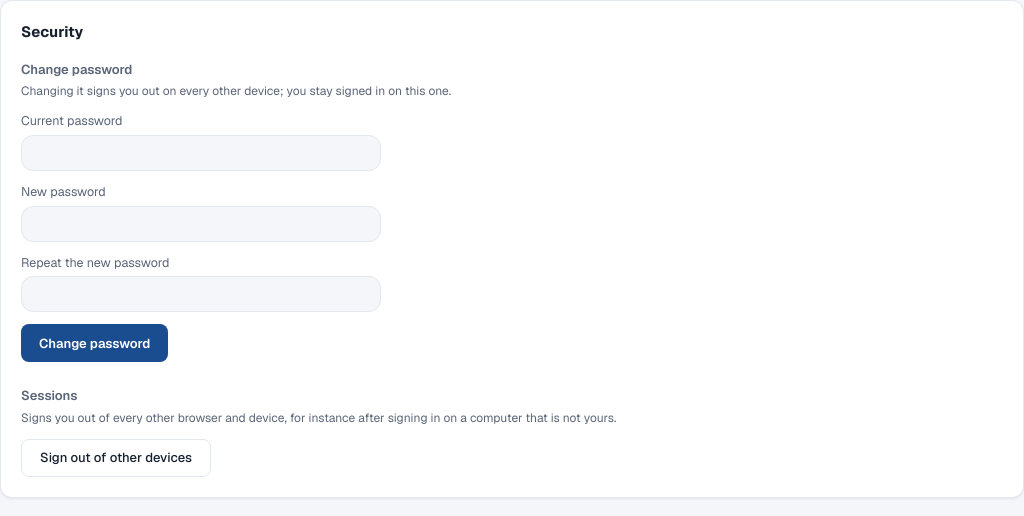
Test: changing the password › checks the confirmation before sending anything
The width and height of the screenshot is (1024, 516).
Type "old-password" into the password field labelled "Current password" at (201,153), box [21, 135, 381, 171]
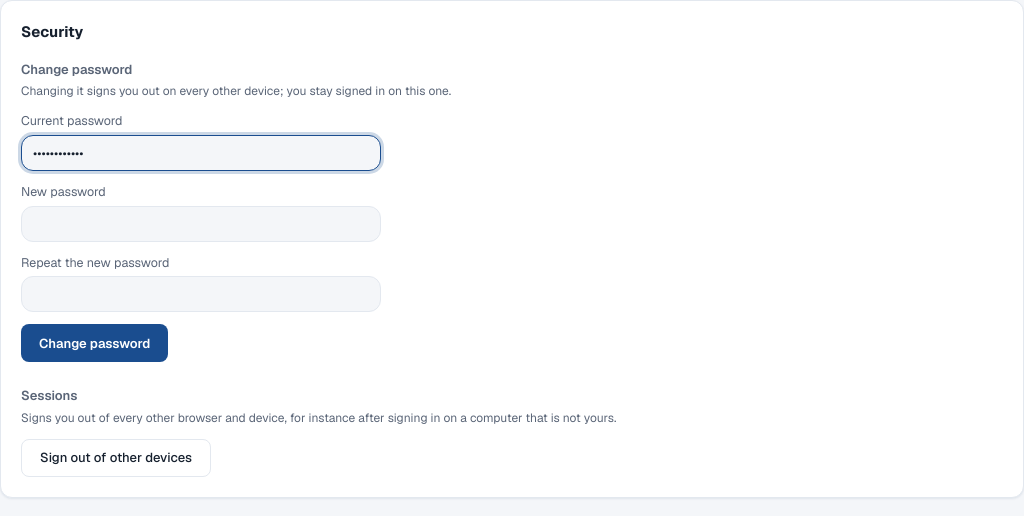
Type "a-new-password" into the password field labelled "New password" at (201,224), box [21, 206, 381, 242]
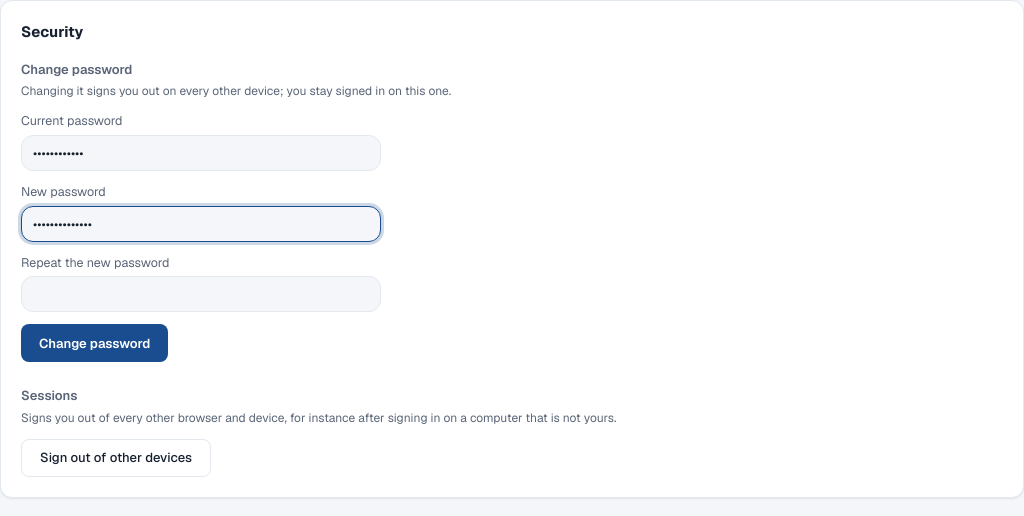
Type "a-new-passwrod" into the password field labelled "Repeat the new password" at (201,294), box [21, 276, 381, 312]
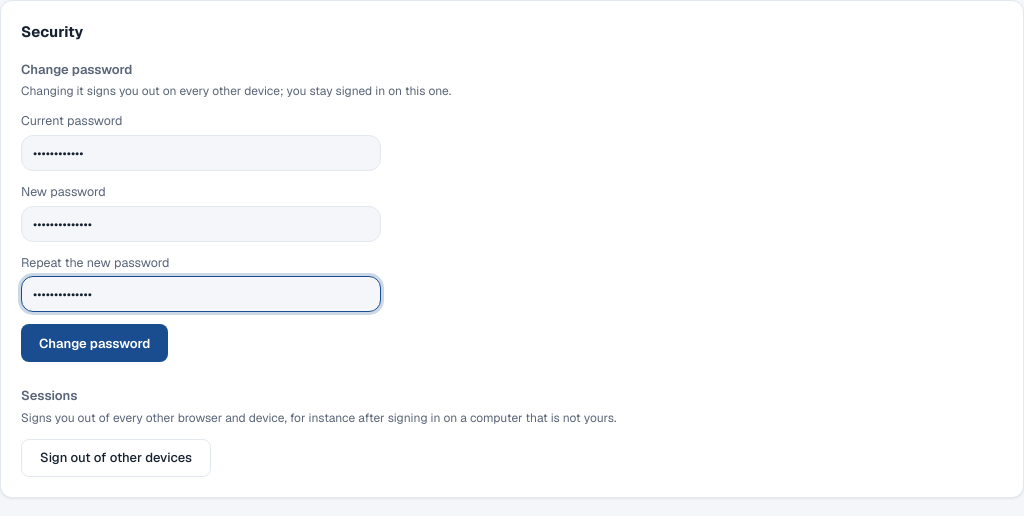
Click the button "Change password" at (95,343), box [21, 324, 168, 362]
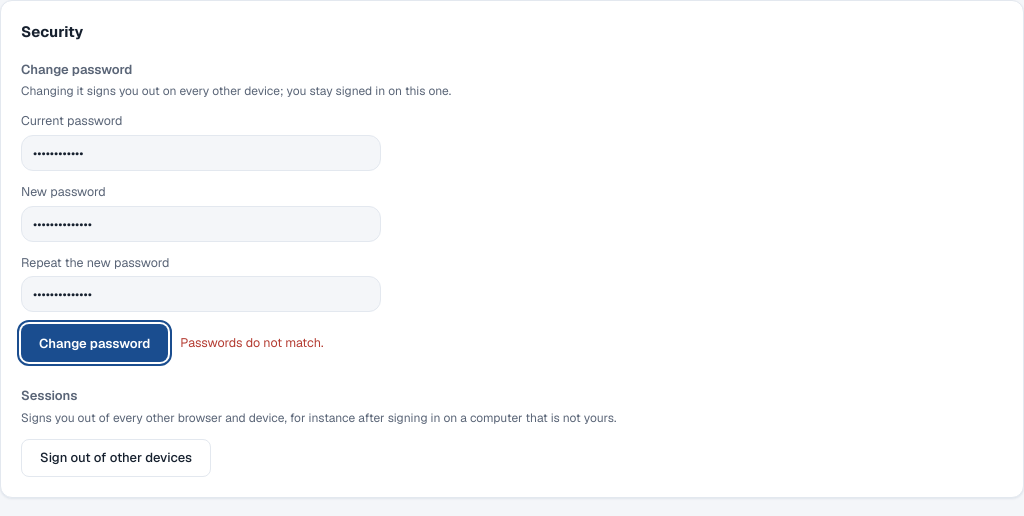
Check: the message reads "Passwords do not match.", box [180, 334, 324, 351]
